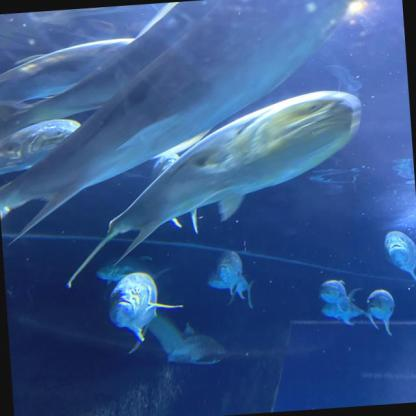fish: (0, 3, 356, 294), (55, 88, 372, 288), (0, 10, 144, 122), (107, 269, 187, 354), (0, 116, 85, 189), (209, 269, 255, 309), (384, 229, 416, 285), (96, 255, 156, 281), (322, 299, 366, 330), (366, 288, 395, 334), (319, 278, 360, 308), (217, 248, 243, 293)
shark: (164, 320, 227, 368)
